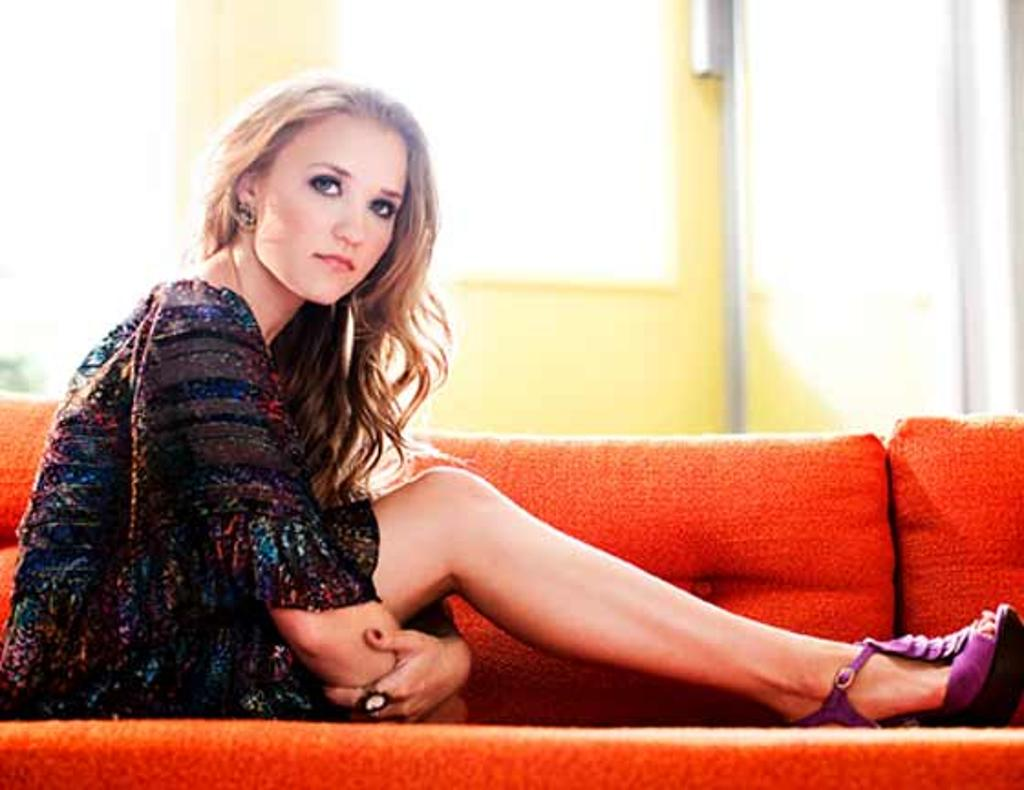face: (256, 120, 410, 302)
